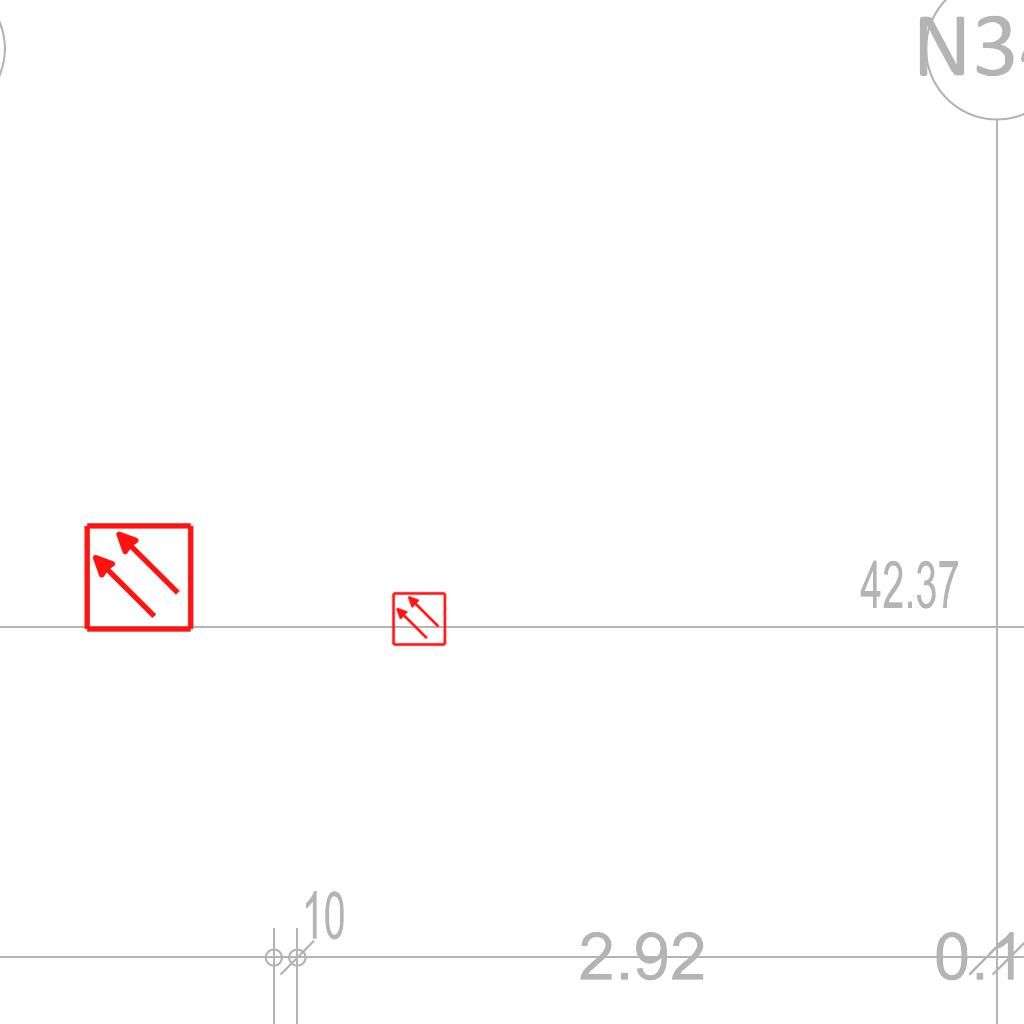RMO_Rauchmelder_optischer: (82, 521, 195, 634), (391, 591, 447, 647)
